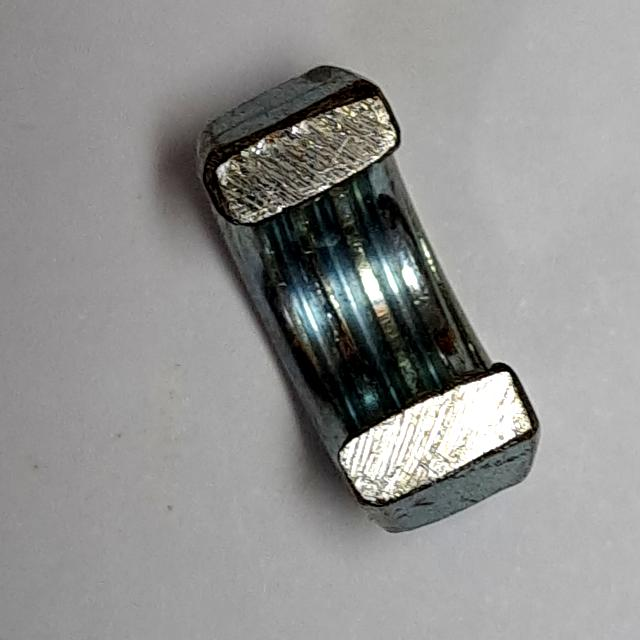Side-Fracture: (186, 44, 552, 553)
